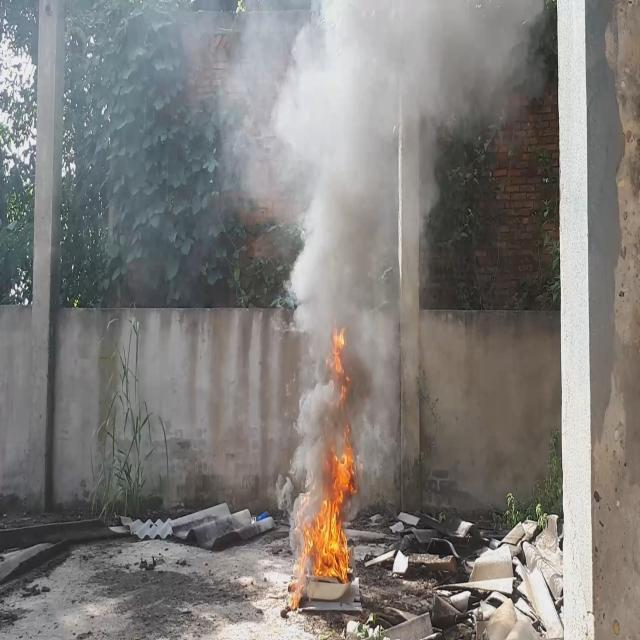Fire: (298, 436, 355, 584)
Smoke: (212, 0, 546, 489)
